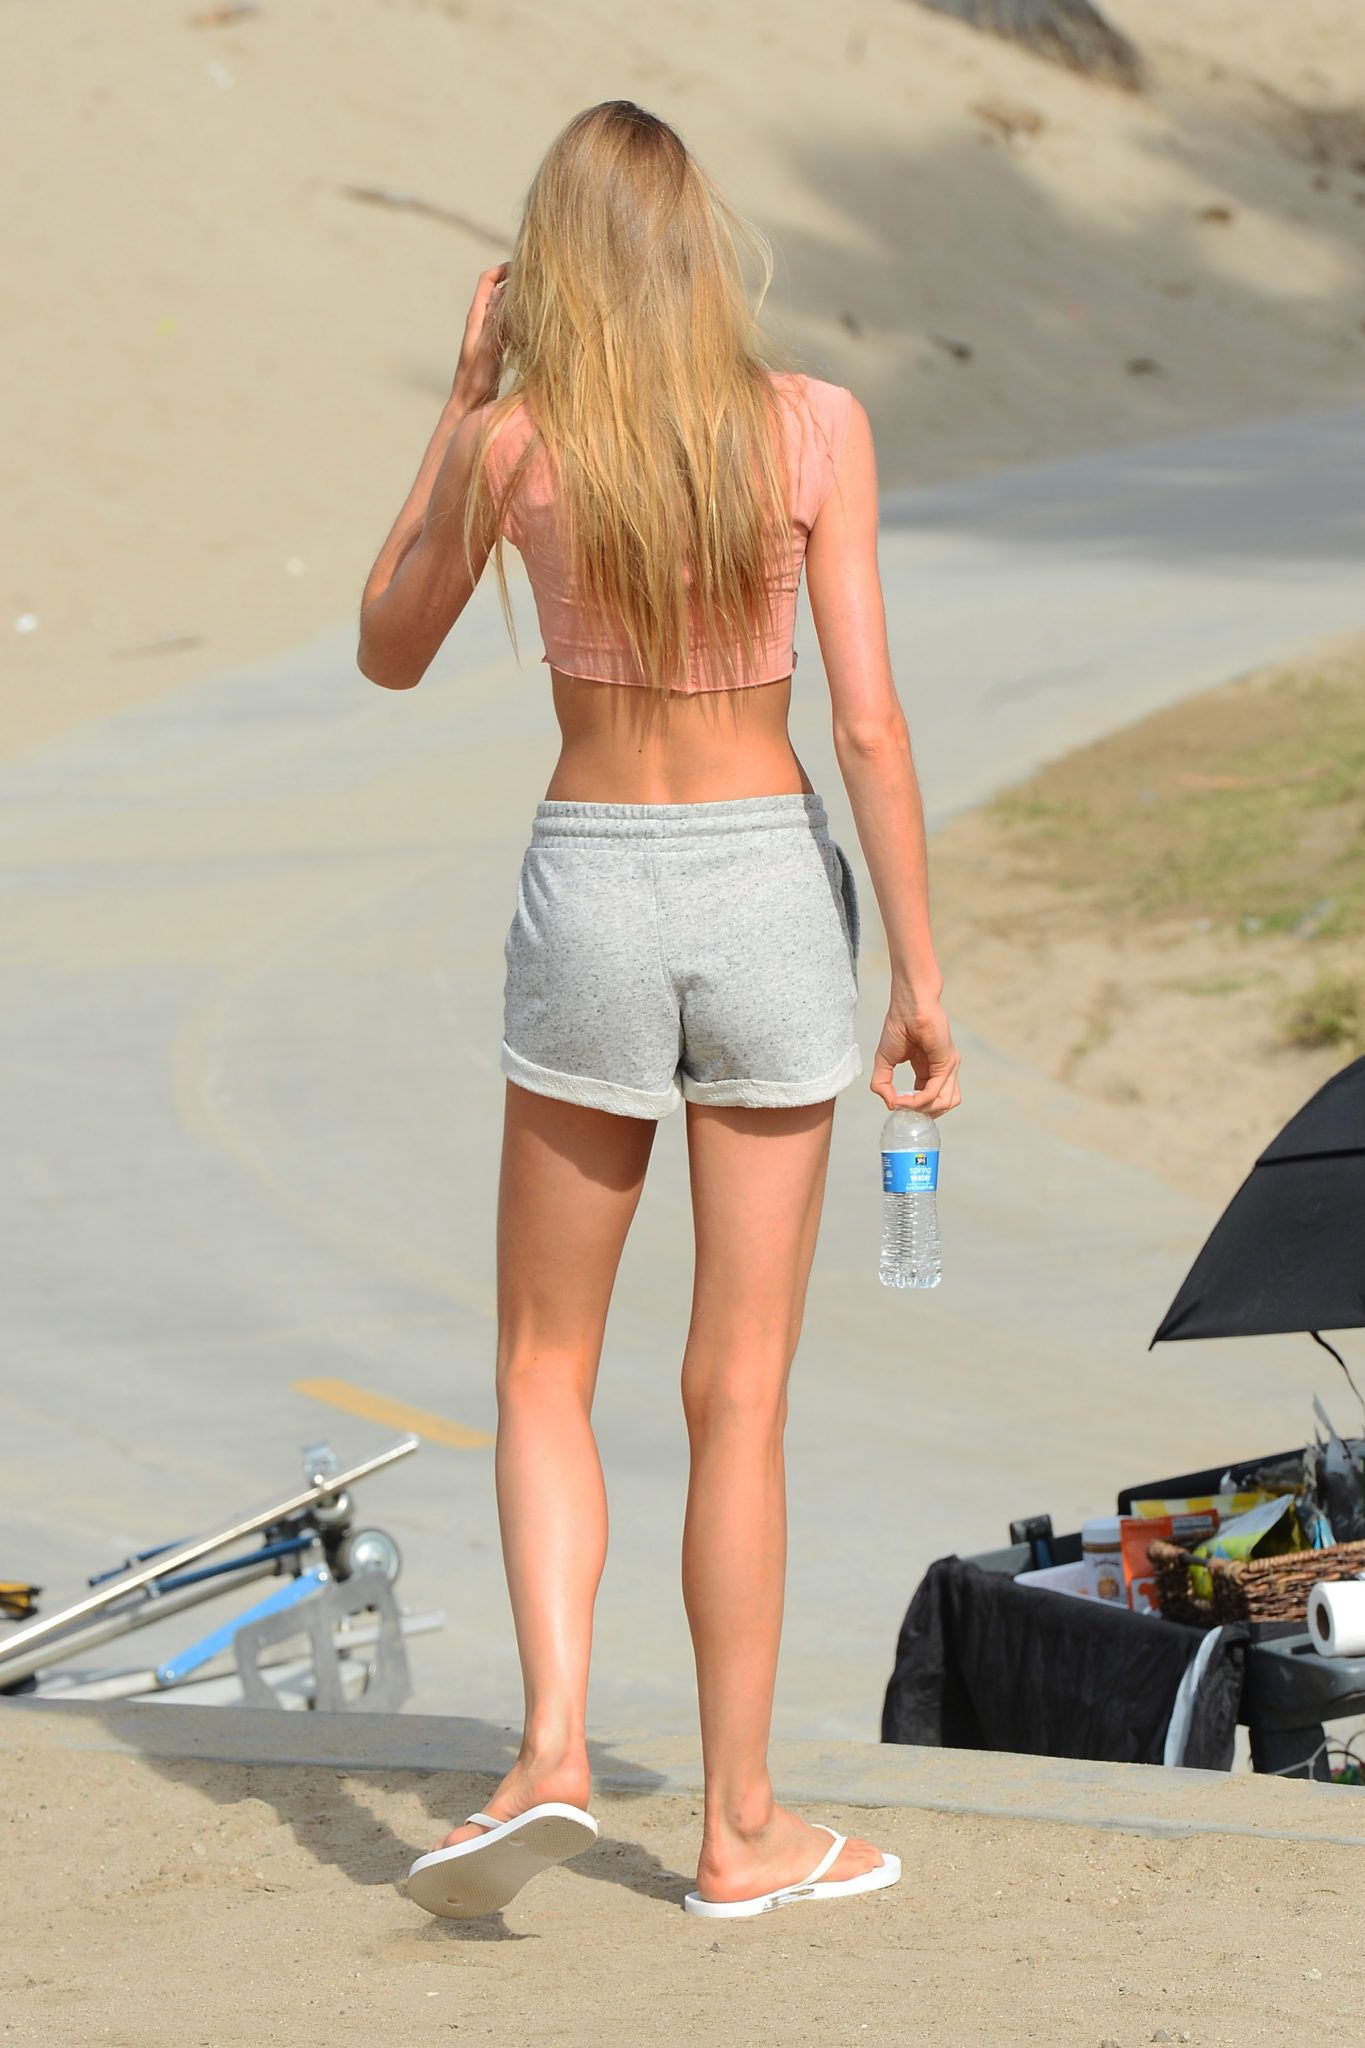Person: (355, 100, 968, 1923)
